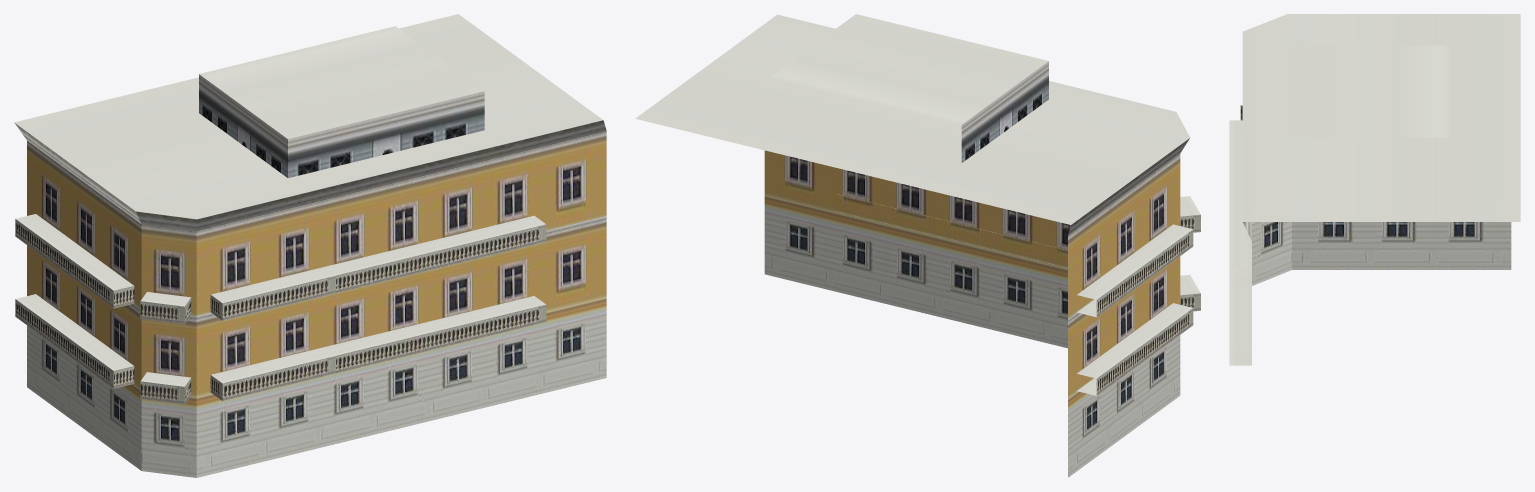
The model's file is fangzi06.FBX.
3 views of the same model, side by side, from view 1: azimuth 30°, elevation 25°; view 2: azimuth 150°, elevation 25°; view 3: azimuth 270°, elevation 25° (orthographic). The views are drawn at different scales.
Visible parts, largest first — view 1: fangzi06; view 2: fangzi06; view 3: fangzi06.
Part boxes in pixels (x1,y1,x2,y2): fangzi06: [14, 14, 606, 477]; fangzi06: [635, 14, 1200, 477]; fangzi06: [1229, 14, 1520, 365].
Bounding box in the file's own units: 38.07 × 23.65 × 21.57.
1 material, 1 textured.
